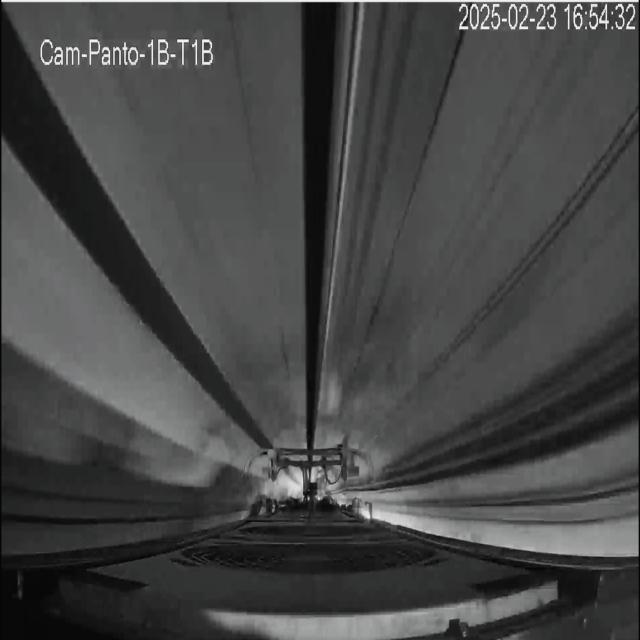Camera Stamp: (34, 26, 221, 72)
Date Stamp: (458, 2, 633, 33)
No - Spark: (249, 441, 373, 517), (196, 413, 261, 498)
